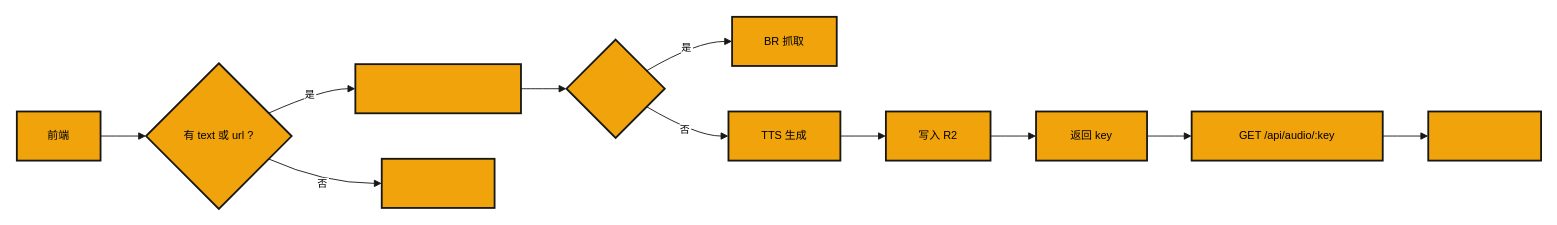
This 1557x225 diagram has some shape labels left out. Here are the shapes that lost their labels. From the top down, the box of each, then its label:
(354, 63, 521, 114): Worker /api/talk
(565, 38, 665, 138): 需抓取?
(1427, 110, 1542, 161): 播放音频
(380, 157, 495, 208): 返回错误
